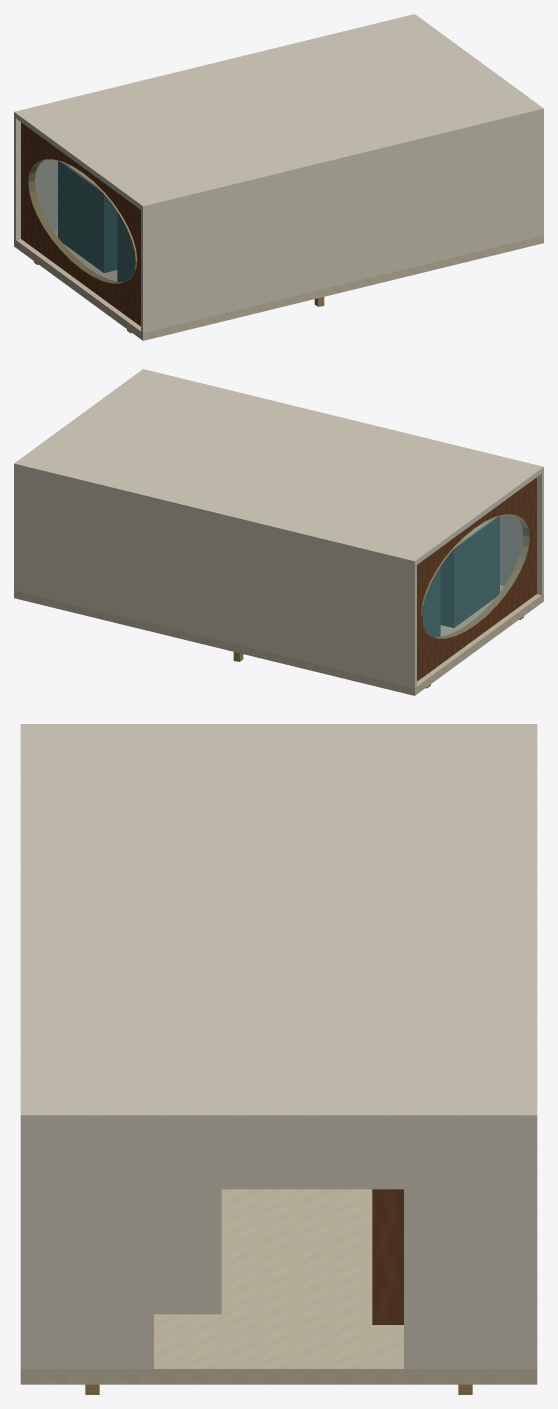
File: NightGardenD15Specialty_560_r002.glb
3 renders of one model, top to bottom at view 1: azimuth 30°, elevation 25°; view 2: azimuth 150°, elevation 25°; view 3: azimuth 270°, elevation 25°, orthographic. The views are drawn at different scales.
Parts seen in each view (by area): view 1: NG560_RuntimeBatch_001, NG560_OvalAtriumGlass, NG560_RuntimeBatch_002, NG560_RuntimeBatch_006, NG560_RoomFloor, NG560_RuntimeBatch_004; view 2: NG560_RuntimeBatch_001, NG560_OvalAtriumGlass, NG560_RuntimeBatch_002, NG560_RuntimeBatch_006, NG560_RoomFloor, NG560_RuntimeBatch_004; view 3: NG560_RuntimeBatch_001, NG560_RoomFloor, NG560_RuntimeBatch_002.
Part boxes in pixels (x1=…): NG560_RuntimeBatch_001: x1=14, y1=14, x2=543, y2=332; NG560_OvalAtriumGlass: x1=28, y1=160, x2=135, y2=283; NG560_RuntimeBatch_002: x1=21, y1=122, x2=140, y2=326; NG560_RuntimeBatch_006: x1=58, y1=161, x2=135, y2=281; NG560_RoomFloor: x1=14, y1=230, x2=543, y2=340; NG560_RuntimeBatch_004: x1=28, y1=159, x2=324, y2=333; NG560_RuntimeBatch_001: x1=14, y1=369, x2=543, y2=687; NG560_OvalAtriumGlass: x1=422, y1=515, x2=529, y2=638; NG560_RuntimeBatch_002: x1=417, y1=477, x2=536, y2=681; NG560_RuntimeBatch_006: x1=422, y1=516, x2=499, y2=636; NG560_RoomFloor: x1=14, y1=585, x2=543, y2=695; NG560_RuntimeBatch_004: x1=233, y1=514, x2=529, y2=688; NG560_RuntimeBatch_001: x1=20, y1=724, x2=537, y2=1368; NG560_RoomFloor: x1=20, y1=1189, x2=537, y2=1384; NG560_RuntimeBatch_002: x1=372, y1=1189, x2=403, y2=1324.
Size of the model in its own units: 12.9 by 4.91 by 7.2.
67 materials, 43 textured.
